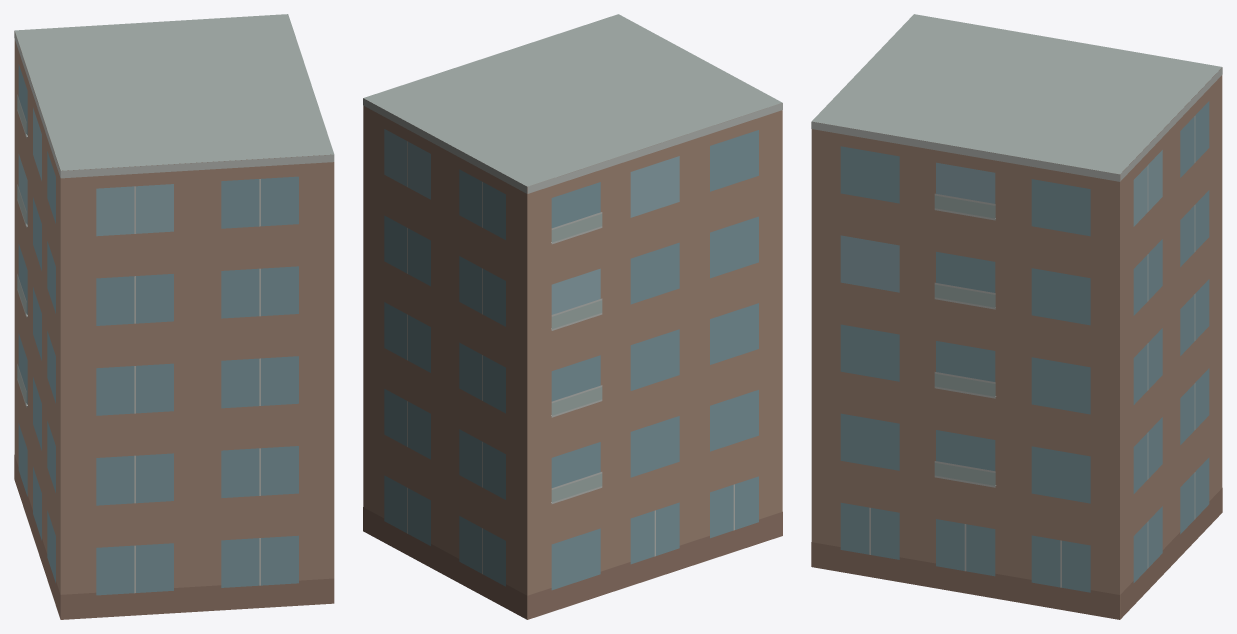
Rendered from survey-upis-32534550.glb.
The picture shows the model from 3 angles, left to right: view 1: azimuth 30°, elevation 25°; view 2: azimuth 150°, elevation 25°; view 3: azimuth 270°, elevation 25°; orthographic projection. The views are drawn at different scales.
Visible parts, largest first — view 1: survey-upis-32534550.tmp; view 2: survey-upis-32534550.tmp; view 3: survey-upis-32534550.tmp.
Part boxes in pixels (bbox=[...]): survey-upis-32534550.tmp: bbox=[14, 14, 334, 619]; survey-upis-32534550.tmp: bbox=[363, 14, 782, 619]; survey-upis-32534550.tmp: bbox=[811, 14, 1222, 619].
Bounding box in the file's own units: 11.21 × 14.5 × 12.14.
